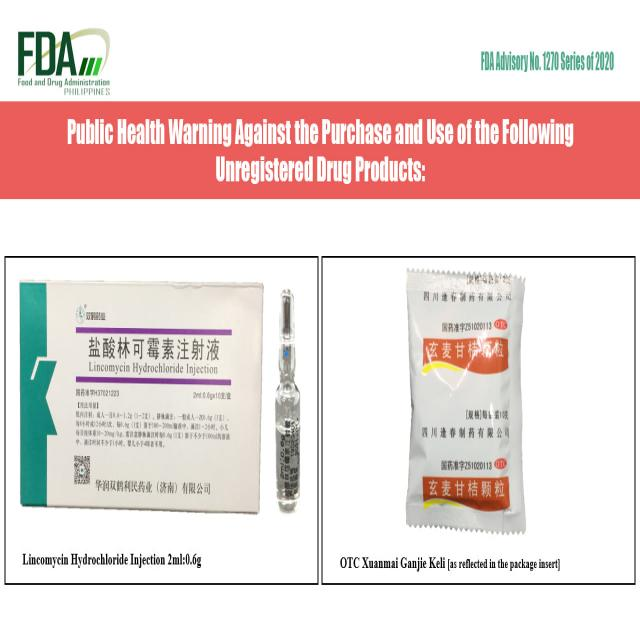counterfeit: (17, 274, 263, 516), (403, 263, 532, 539), (274, 278, 306, 526)
